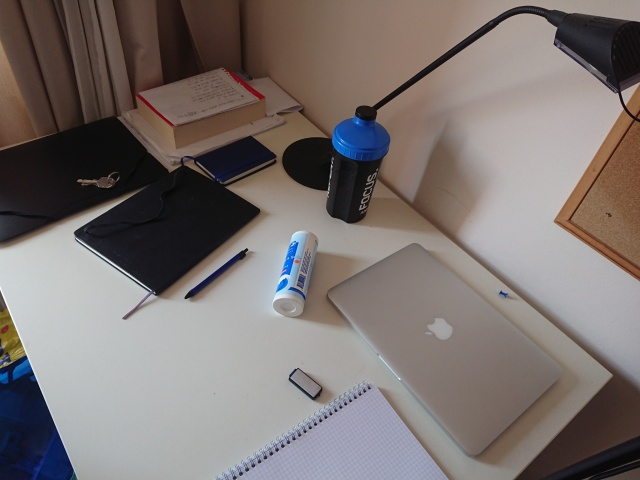Solana Pag Fine Sea Salt 250g: (271, 228, 321, 320)
